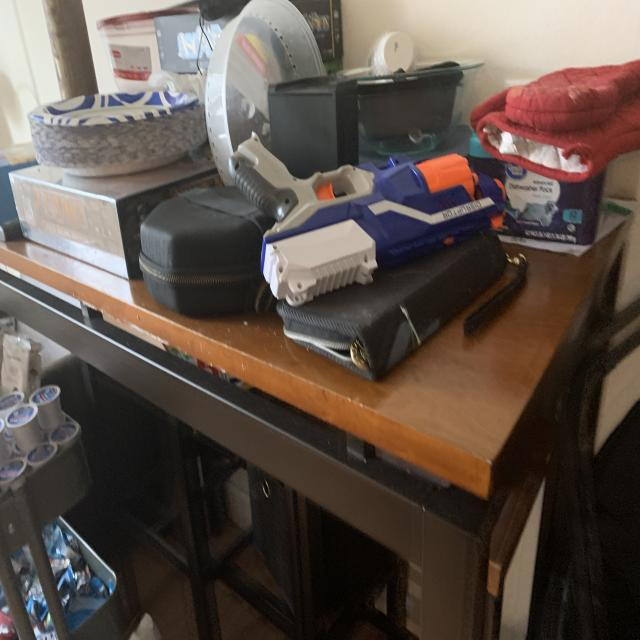nerf-maverik: (221, 122, 524, 312)
